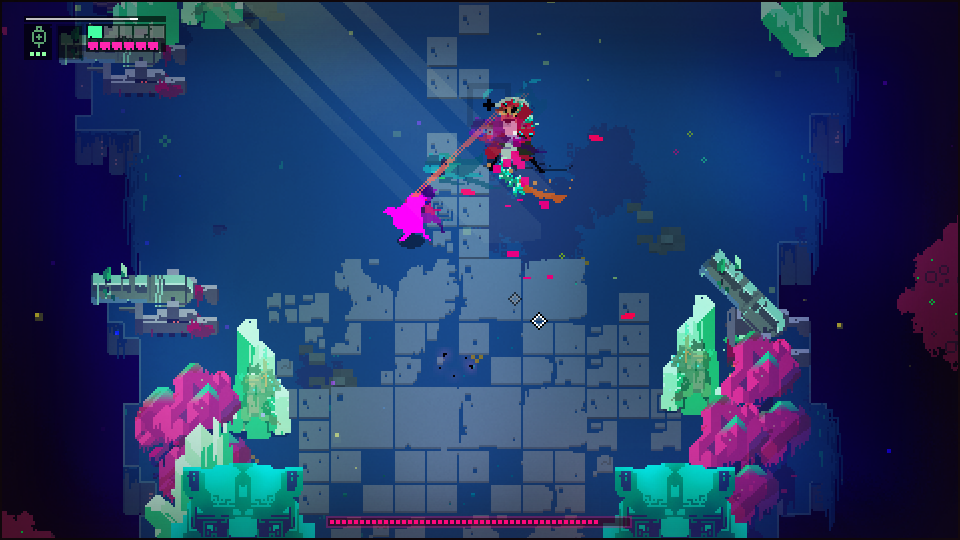hanged_man: (479, 93, 546, 201)
player: (384, 184, 432, 244)
